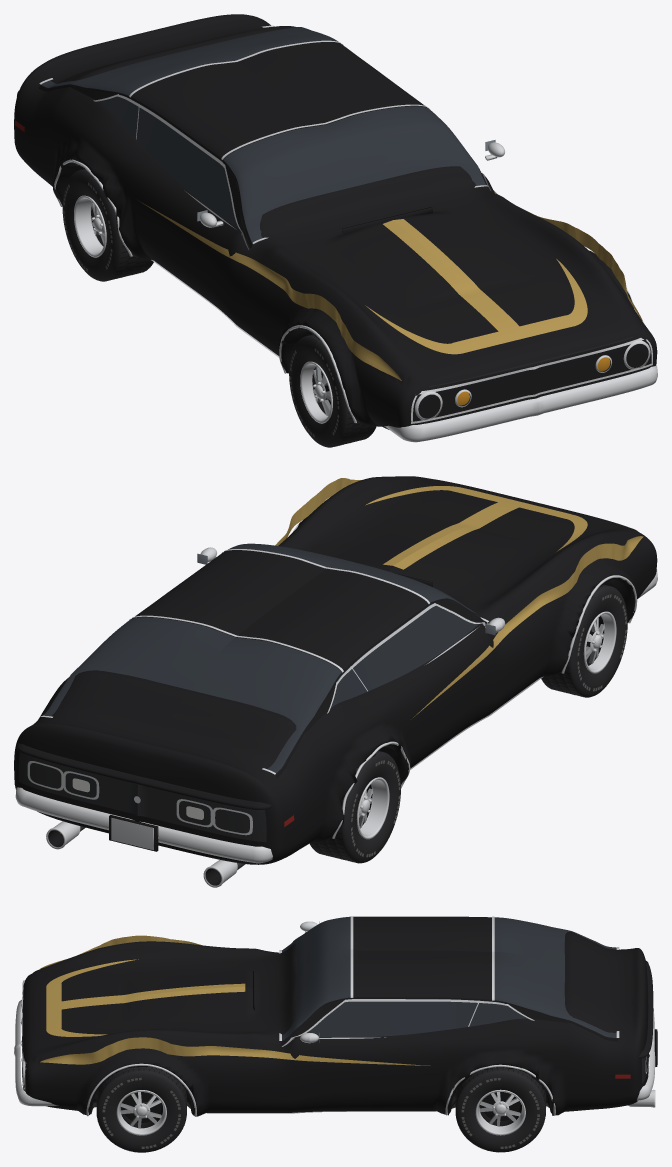
File: javelin-amx-v3.glb
3 renders of one model, top to bottom at view 1: azimuth 30°, elevation 25°; view 2: azimuth 150°, elevation 25°; view 3: azimuth 270°, elevation 25°, orthographic. The views are drawn at different scales.
Visible parts, largest first — view 1: Body, Glasshouse, Stripe, Details, Wheel_RR, Wheel_FR, WindowTrim; view 2: Body, Glasshouse, Details, Stripe, Wheel_RR, Wheel_FR, WindowTrim, Plate; view 3: Body, Glasshouse, Stripe, Wheel_FL, Wheel_RL, Details, WindowTrim.
Boxes of the visible parts, <box> form: Body: <box>14,14,657,429</box>; Glasshouse: <box>39,27,488,247</box>; Stripe: <box>138,190,642,380</box>; Details: <box>15,91,657,442</box>; Wheel_RR: <box>62,169,153,281</box>; Wheel_FR: <box>289,334,376,447</box>; WindowTrim: <box>39,25,490,249</box>; Body: <box>14,476,657,864</box>; Glasshouse: <box>39,543,487,778</box>; Details: <box>15,520,657,887</box>; Stripe: <box>275,478,643,717</box>; Wheel_RR: <box>309,750,400,863</box>; Wheel_FR: <box>541,584,627,697</box>; WindowTrim: <box>40,549,488,774</box>; Plate: <box>111,818,153,850</box>; Body: <box>22,931,648,1116</box>; Glasshouse: <box>281,916,617,1045</box>; Stripe: <box>40,935,430,1065</box>; Wheel_FL: <box>96,1066,186,1152</box>; Wheel_RL: <box>455,1067,545,1152</box>; Details: <box>14,960,657,1116</box>; WindowTrim: <box>279,916,619,1046</box>.
Size of the model in its own units: 2.14 by 1.3 by 5.01.
